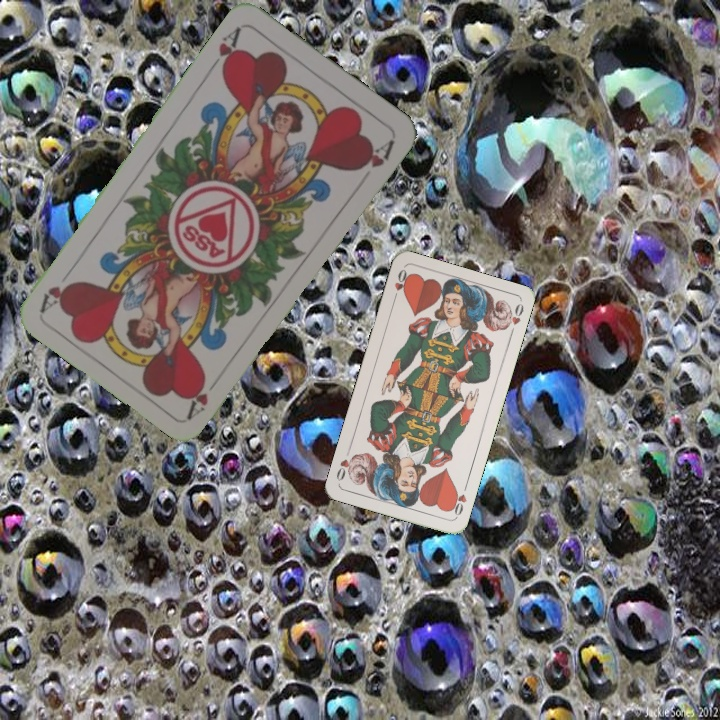HA: (204, 22, 244, 77), (183, 370, 226, 420)
HO: (446, 480, 470, 520), (389, 265, 412, 304)
